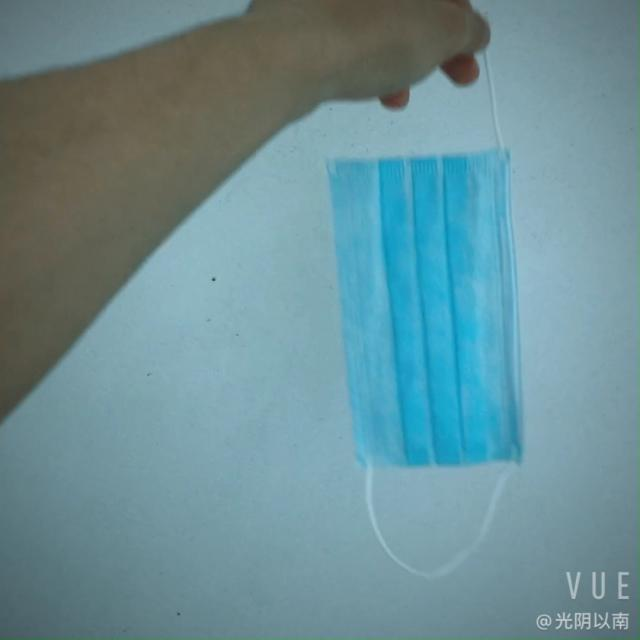non-organic waste: (333, 140, 545, 461)
